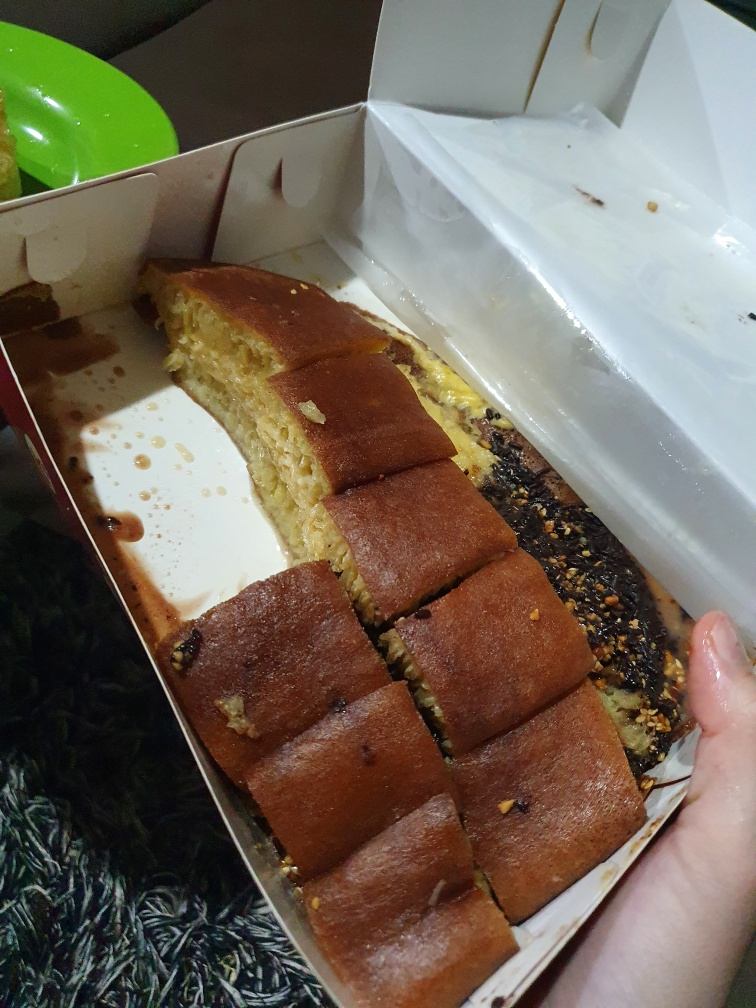martabak manis: (130, 556, 380, 755), (123, 234, 389, 406), (268, 830, 513, 1008), (434, 721, 653, 902), (195, 348, 451, 493), (378, 571, 595, 739), (255, 481, 532, 607), (233, 718, 461, 853)
